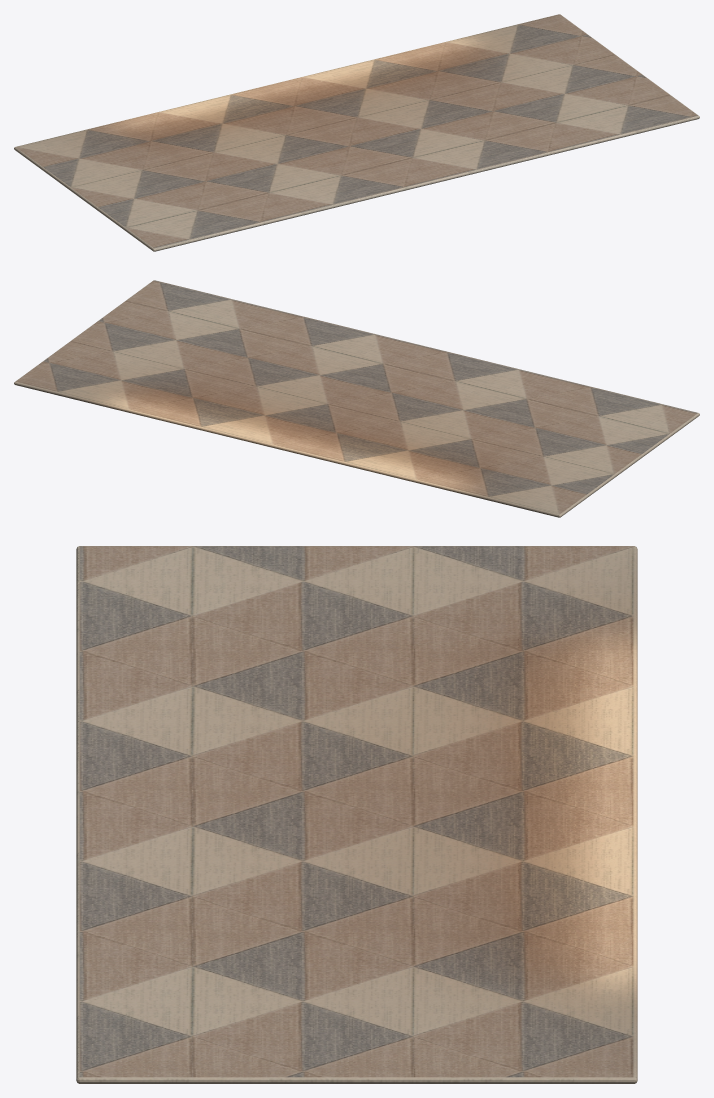
File: carpet.fbx
The picture shows the model from 3 angles, top to bottom: view 1: azimuth 30°, elevation 25°; view 2: azimuth 150°, elevation 25°; view 3: azimuth 270°, elevation 25°; orthographic projection. The views are drawn at different scales.
Bounding box in the file's own units: 360 × 2 × 160.
